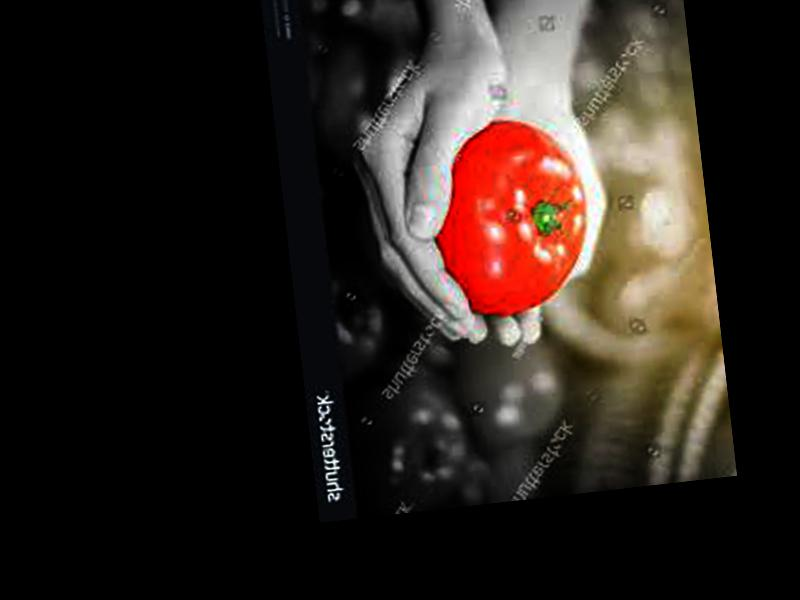Tomato: (424, 112, 596, 321)
